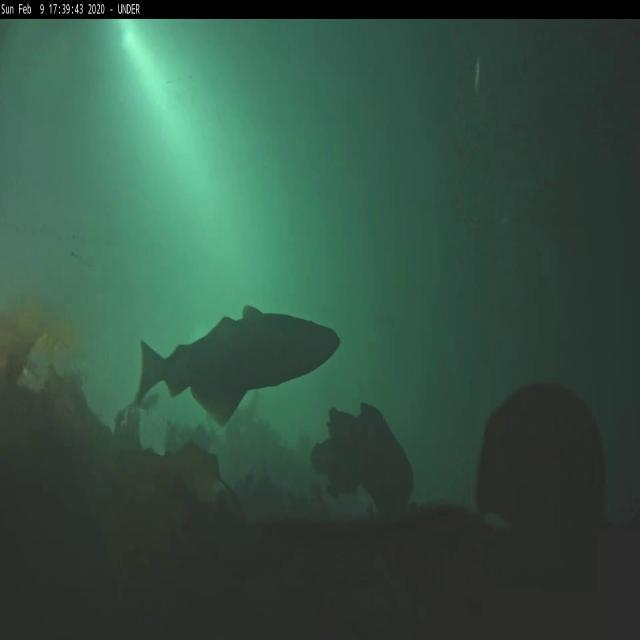fish: (140, 306, 342, 430)
